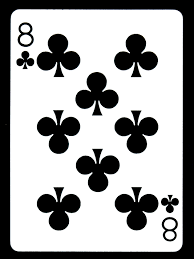eigth of clubs: (10, 9, 182, 252)
